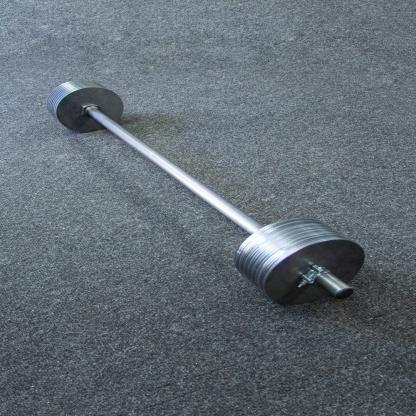Barbell: (325, 283, 364, 309)
